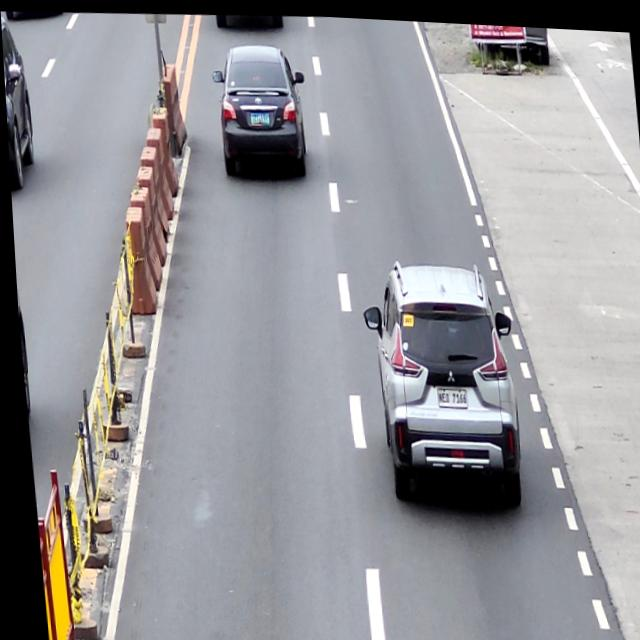Car: (357, 253, 524, 514), (207, 36, 312, 177)
License-Plate: (431, 381, 464, 406), (248, 106, 268, 124)
